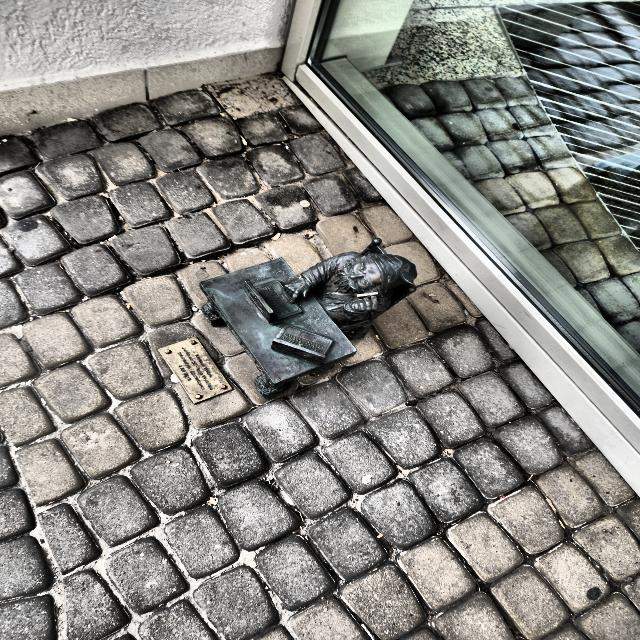WIZek: (200, 239, 417, 398)
